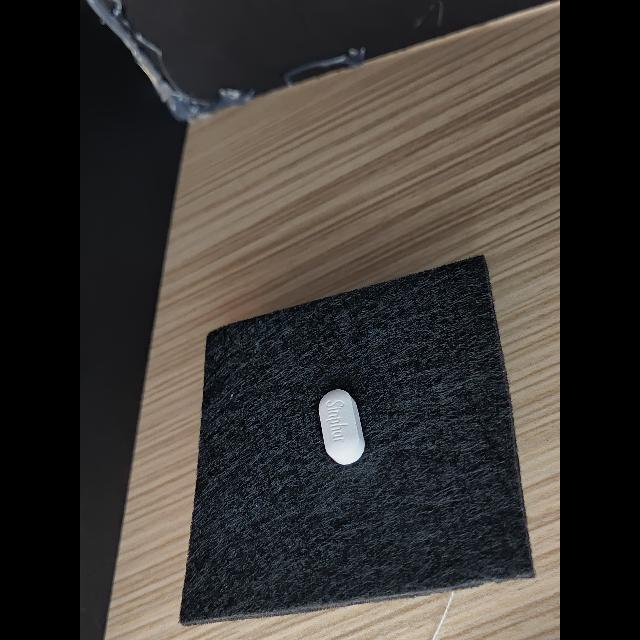Intact Pill: (319, 389, 365, 465)
